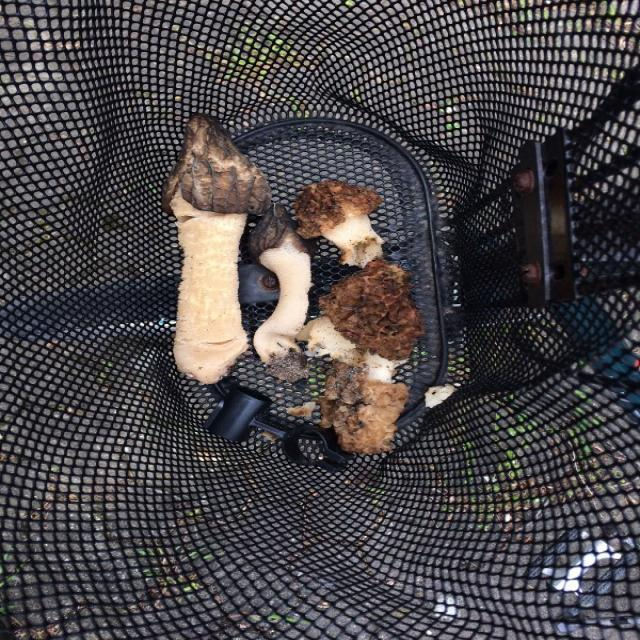Morchella esculenta: (161, 114, 266, 381), (324, 266, 415, 452), (256, 218, 314, 355), (308, 179, 383, 268)
